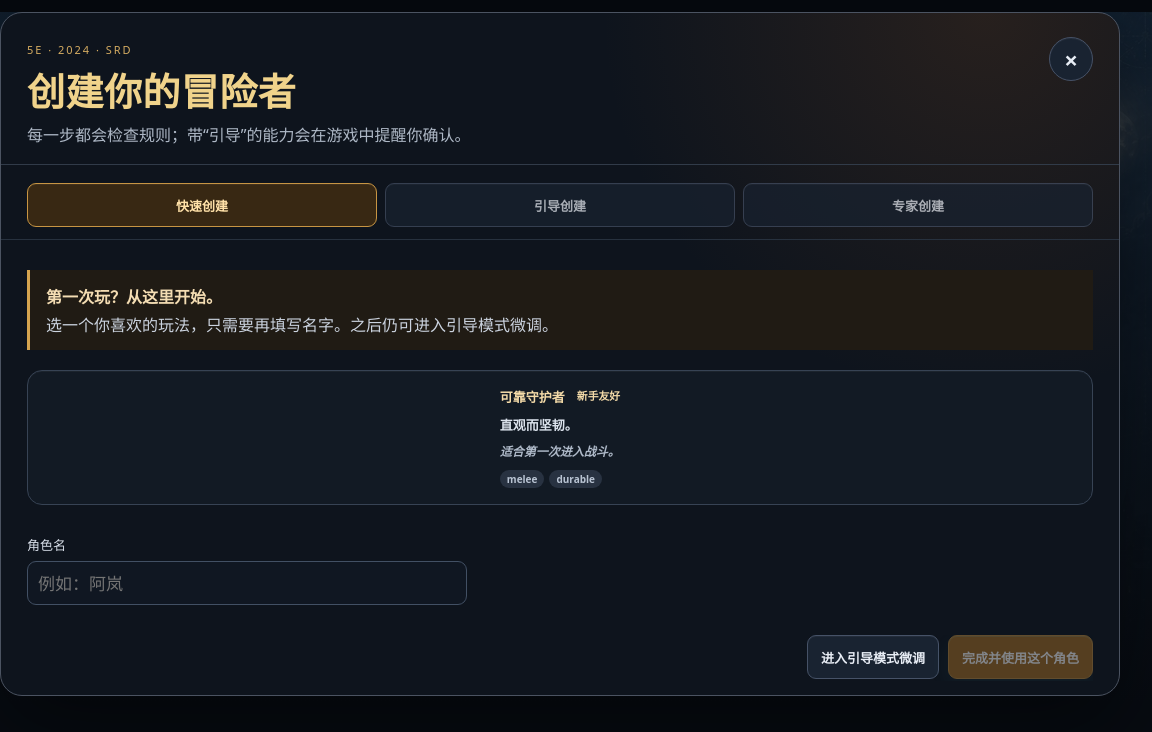
Test case: D&D 2024 professional character builder › explains standard alignment abbreviations and localizes common builder enums
Click the button "可靠守护者 新手友好 直观而坚韧。 适合第一次进入战斗。 melee durable". click: click(532, 397)
box: x1=27 y1=370 x2=1093 y2=505
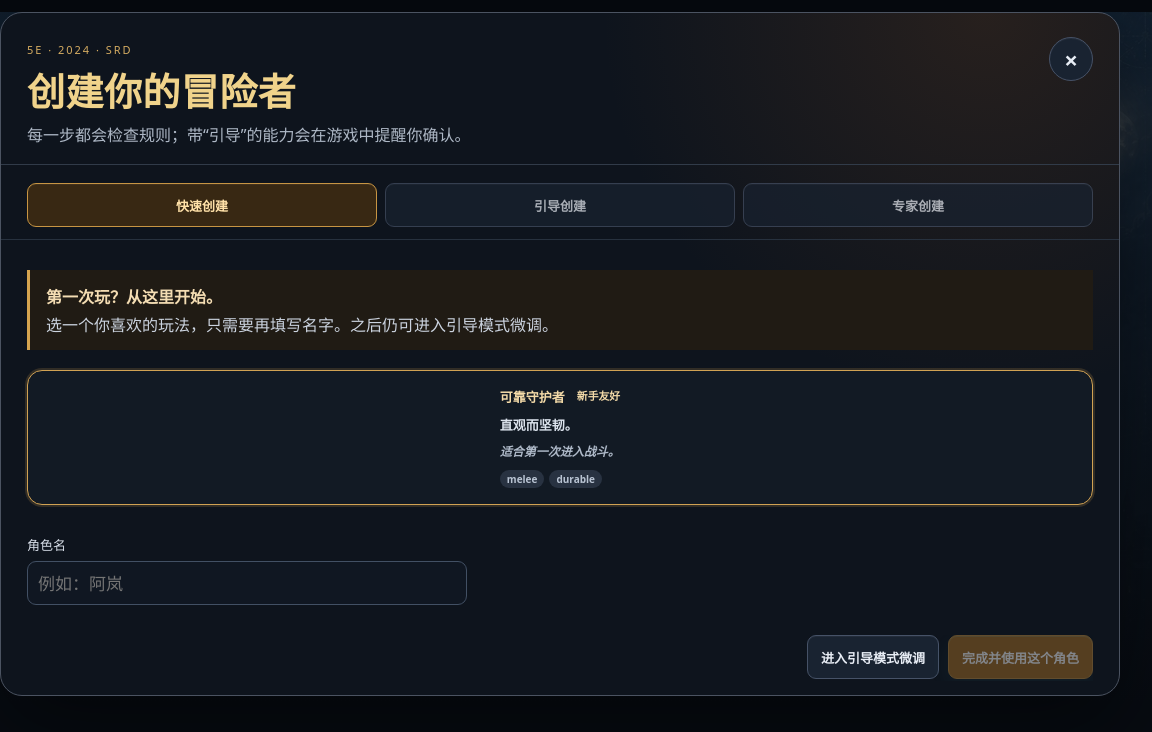
Type "阿岚" into the field labelled "角色名". click: (247, 583)
box: x1=27 y1=561 x2=467 y2=605
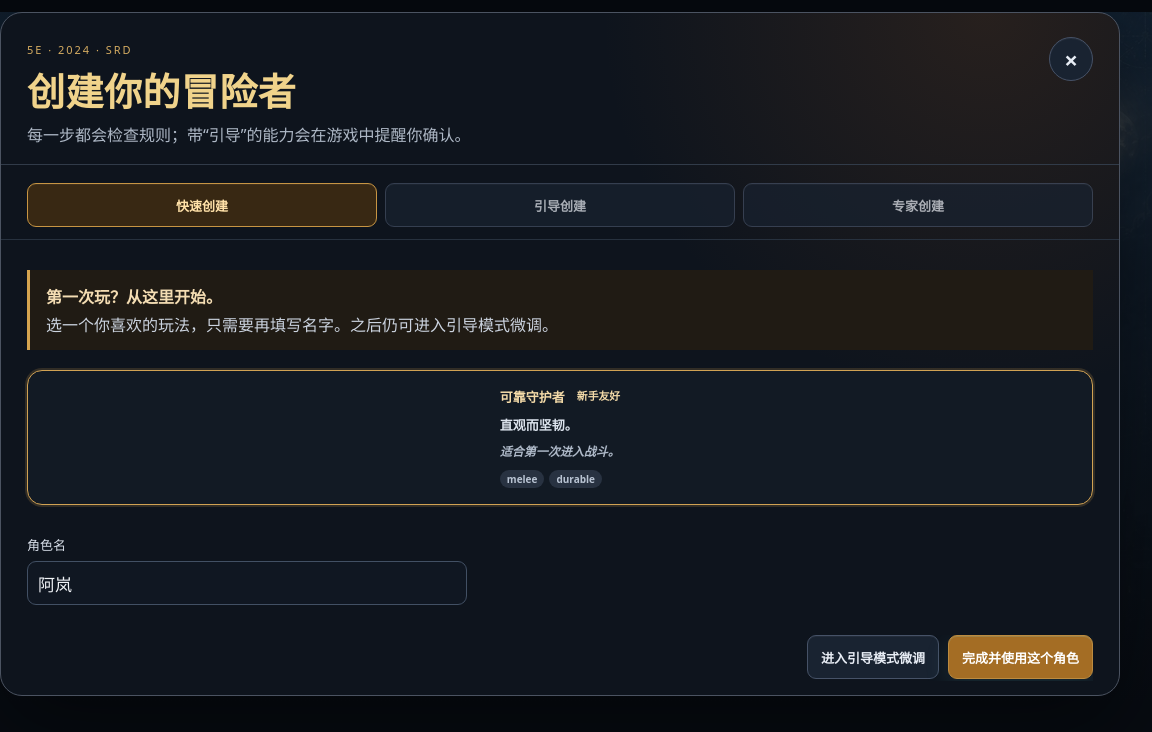
Click the tab "引导创建". click: click(560, 205)
box: x1=385 y1=183 x2=735 y2=227
(page scrolled)
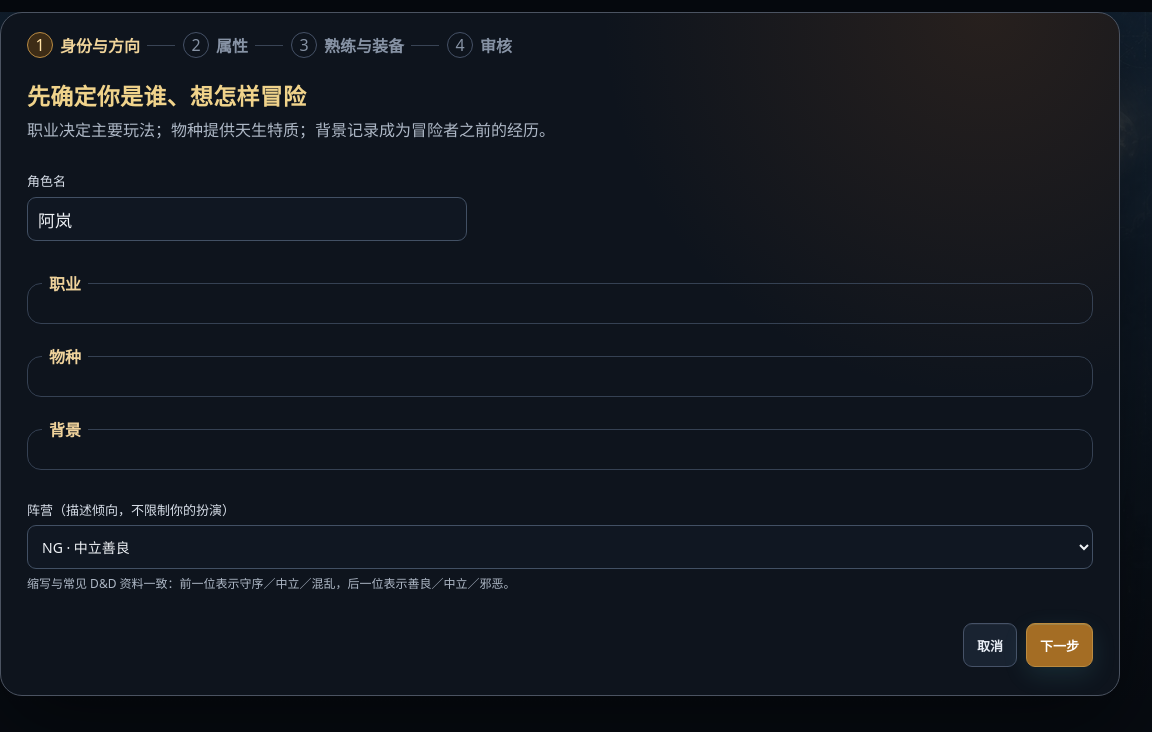
Result: the label "阵营（描述倾向，不限制你的扮演） 缩写与常见 D&D 资料一致：前一位表示守序／中立／混乱，后一位表示善良／中立／邪恶。" is shown at x1=27 y1=500 x2=1093 y2=593
Click the button "下一步". click: click(1060, 645)
box: x1=1026 y1=623 x2=1093 y2=667
(page scrolled)
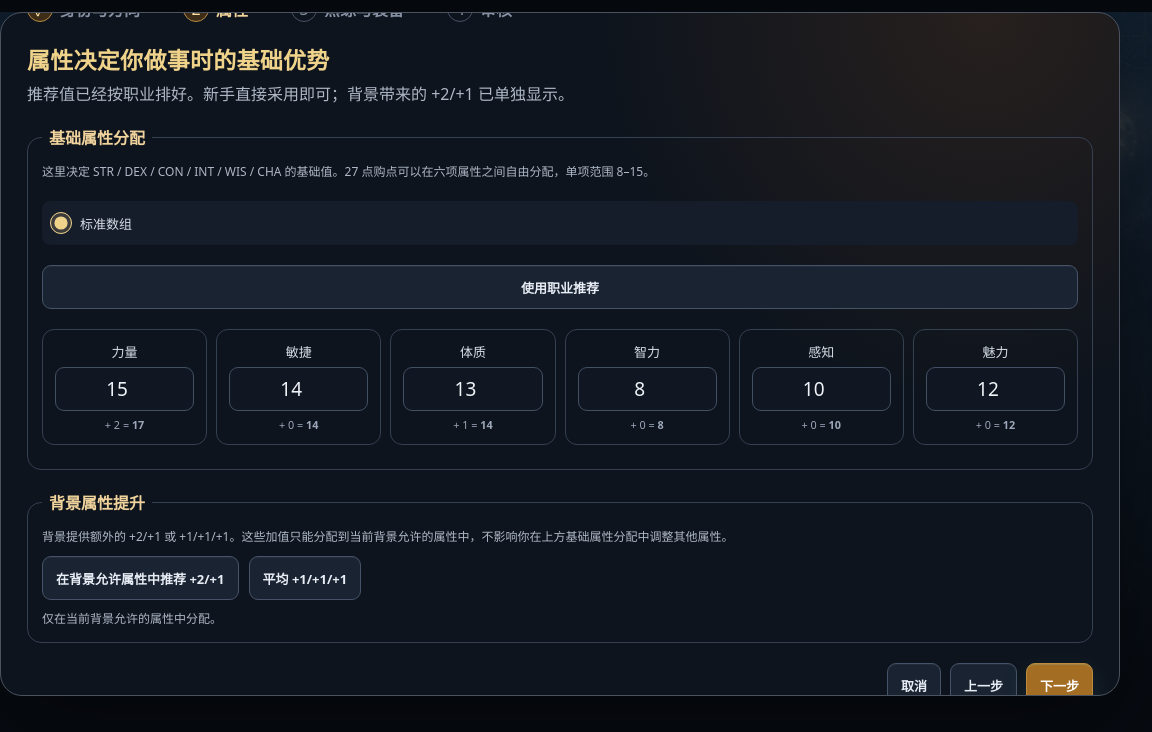
Result: the panel shows "标准数组" at x1=80 y1=214 x2=132 y2=232
